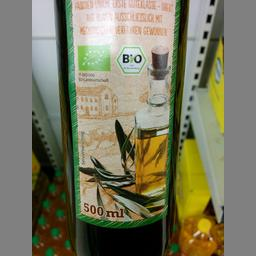oil: (52, 0, 190, 255)
